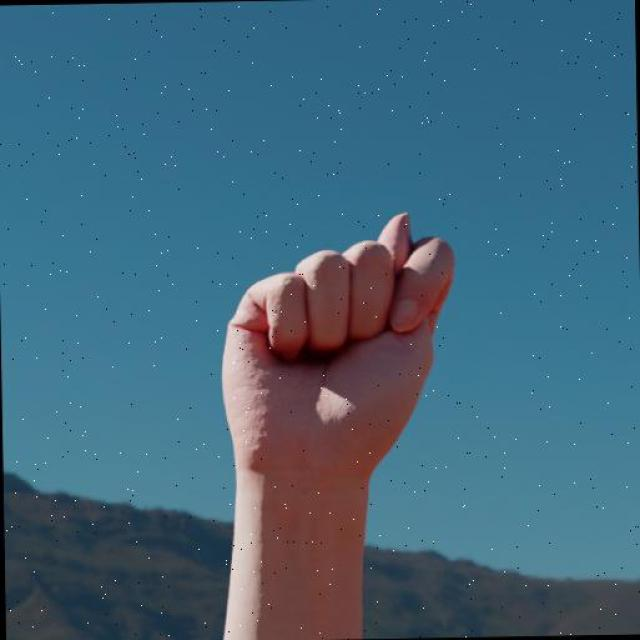T: (212, 208, 462, 476)
